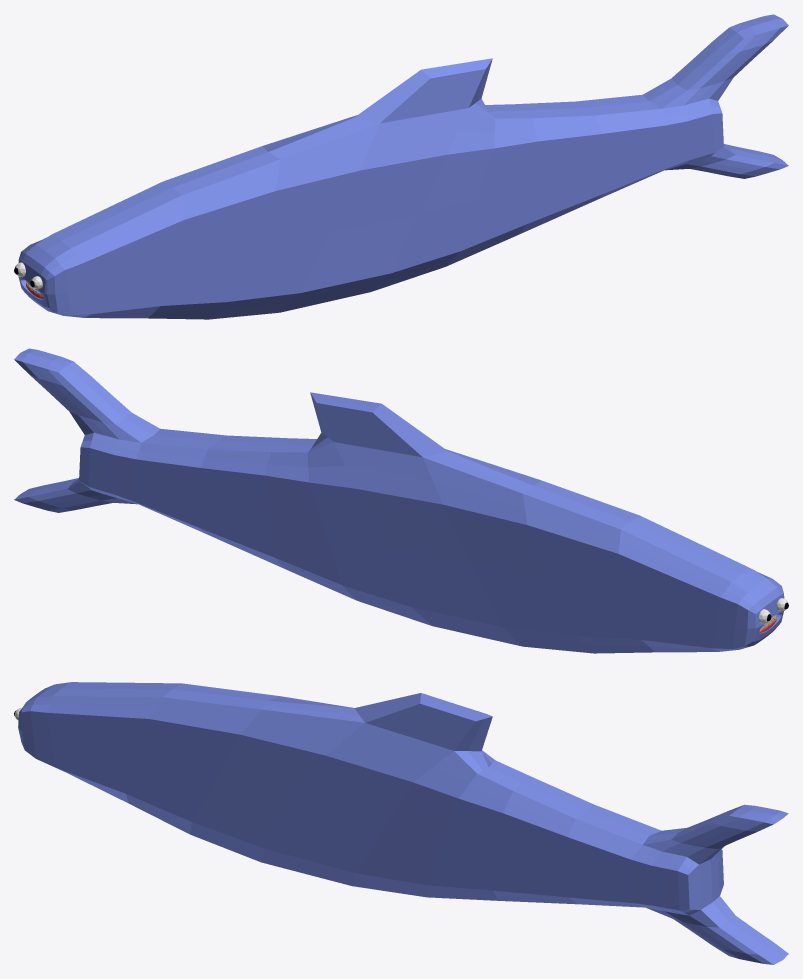
Rendered from Fisk.fbx.
The picture shows the model from 3 angles, top to bottom: view 1: azimuth 30°, elevation 25°; view 2: azimuth 150°, elevation 25°; view 3: azimuth 330°, elevation 25°; orthographic projection.
Parts seen in each view (by area): view 1: Cube; view 2: Cube; view 3: Cube.
Part boxes in pixels (x1,y1,x2,y2): Cube: (18,14,788,319); Cube: (14,348,784,653); Cube: (18,682,788,964).
Size of the model in its own units: 456 by 116 by 36.8.
